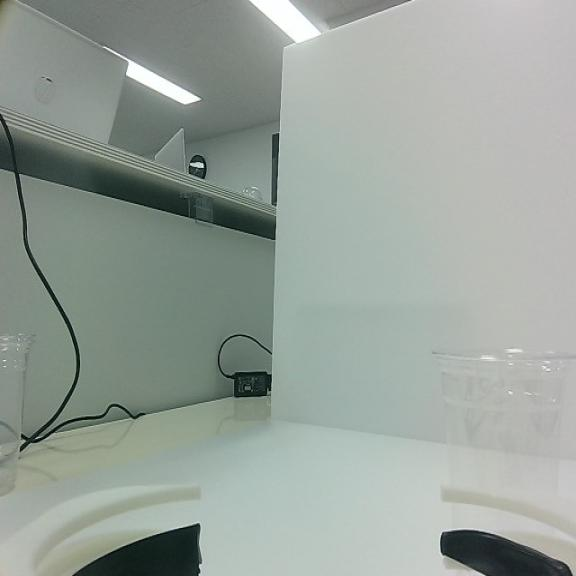Plastik: (435, 345, 574, 496)
